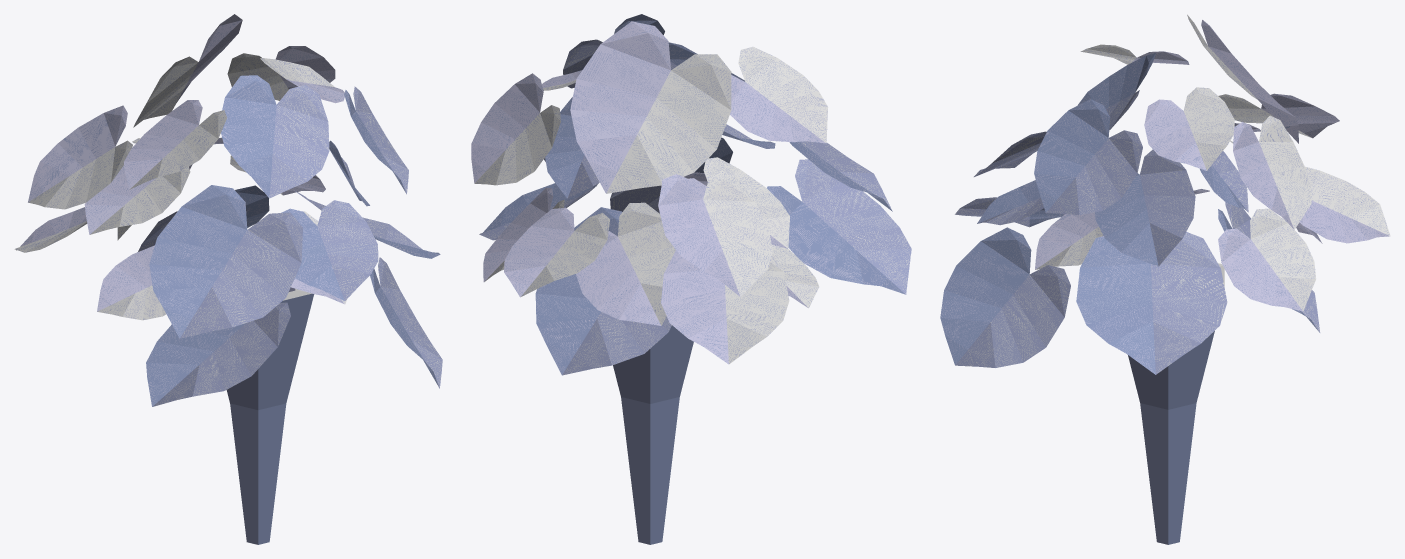
The model's file is Prop_Plant_00.fbx.
3 renders of one model, left to right at view 1: azimuth 30°, elevation 25°; view 2: azimuth 150°, elevation 25°; view 3: azimuth 270°, elevation 25°, orthographic. The views are drawn at different scales.
Visible parts, largest first — view 1: Plant; view 2: Plant; view 3: Plant.
Boxes of the visible parts, left/top/right/bottom form: Plant: left=14, top=14, right=442, bottom=544; Plant: left=471, top=14, right=911, bottom=544; Plant: left=940, top=14, right=1390, bottom=544.
Bounding box in the file's own units: 461 × 647 × 515.
